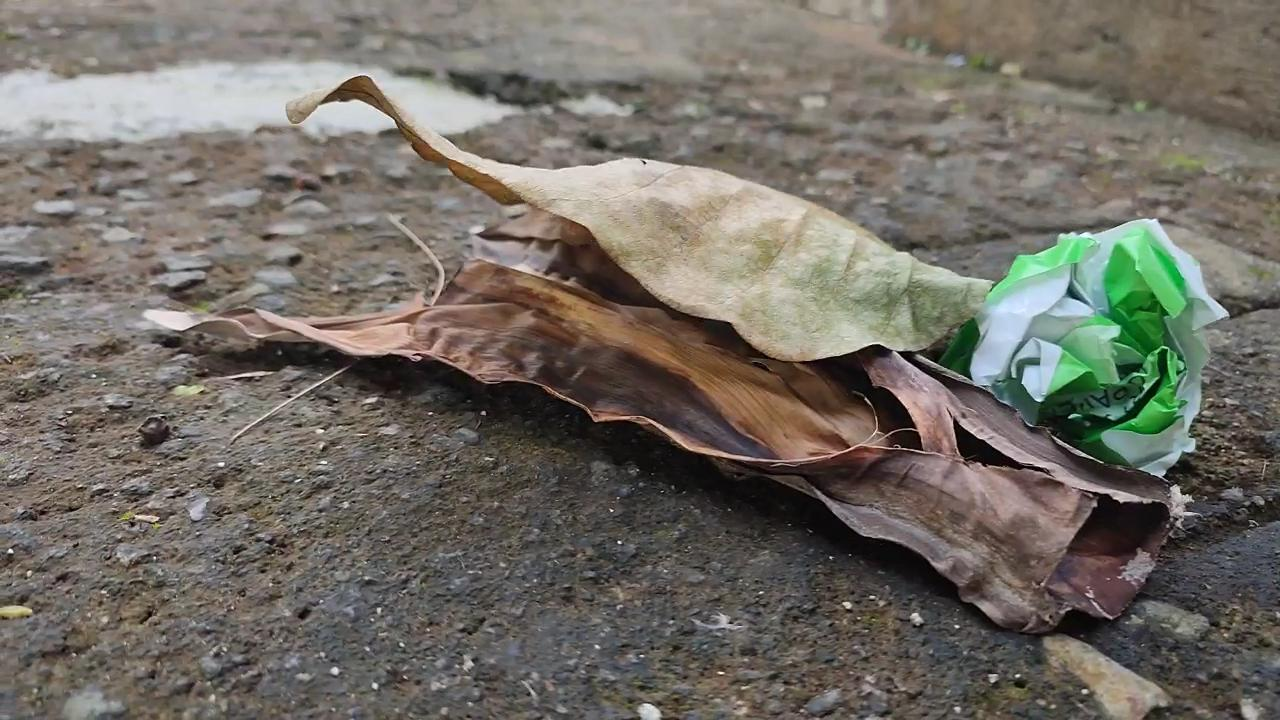Paper: (958, 208, 1231, 480)
